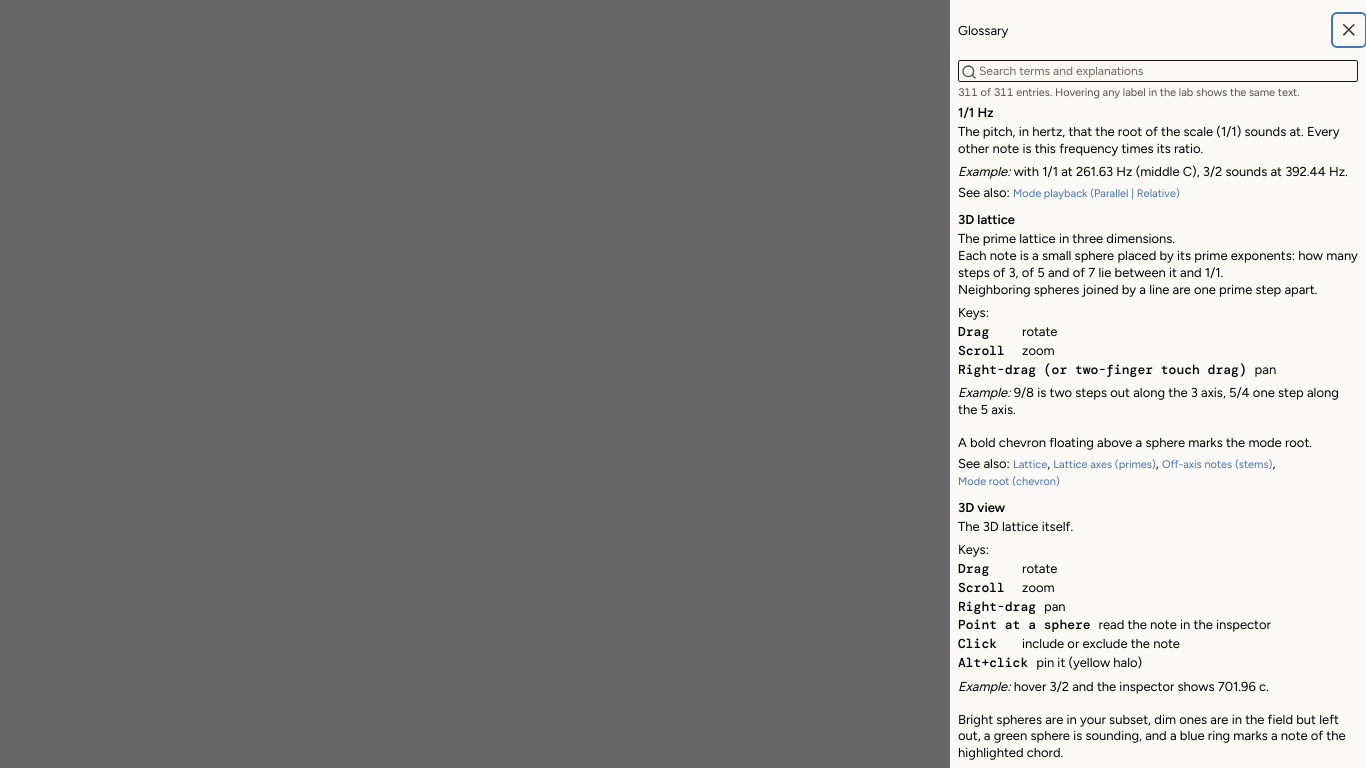
Test: new-form entries › the glossary shows help, a rule, then teaching; search finds a teaching-only word
Type "comes back down" into the field named "Search the glossary" at (1158, 71), box [958, 60, 1358, 82]
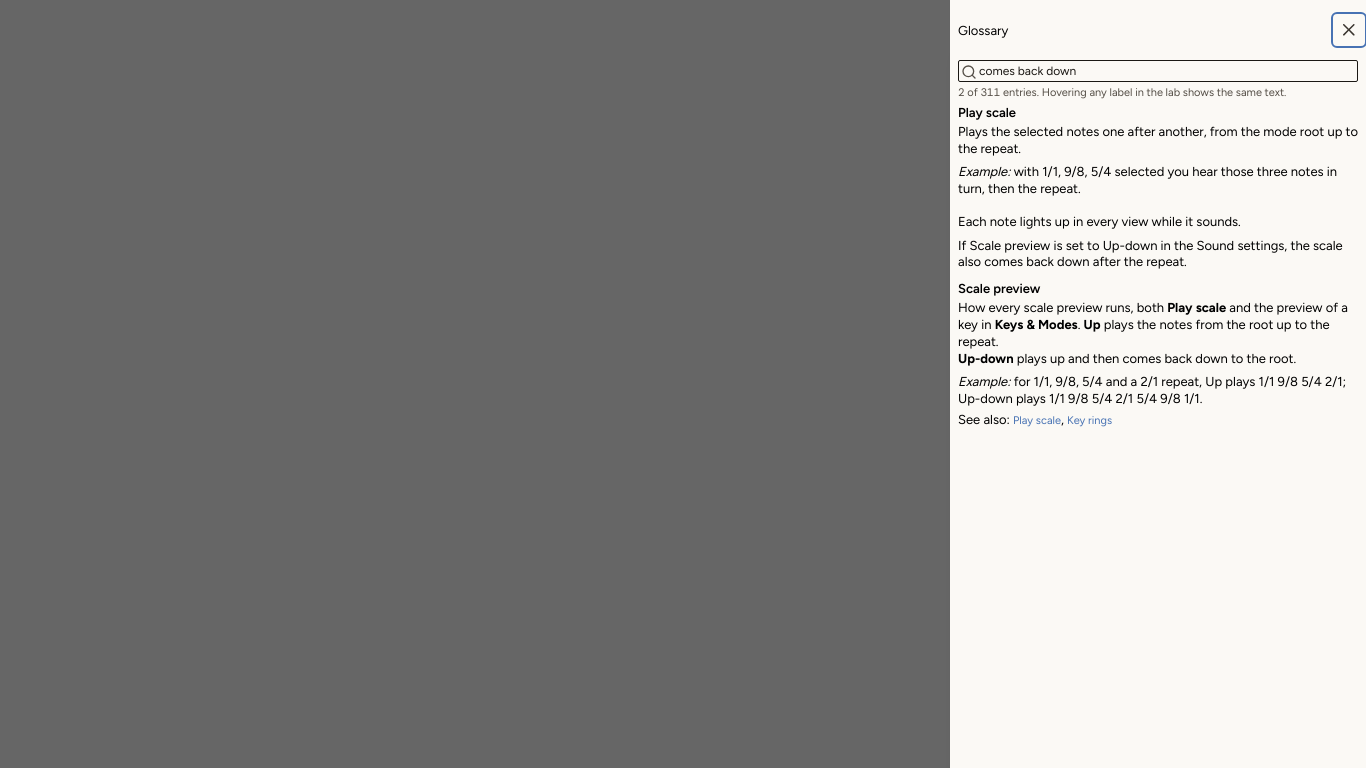
Expected: the dialog "Glossary" shows "Play scale", [958, 105, 1016, 120]
Expected: the dialog "Glossary" shows "lights up in every view", [958, 214, 1241, 229]
Expected: the dialog "Glossary" shows "Up-down in the Sound settings", [958, 238, 1343, 269]
